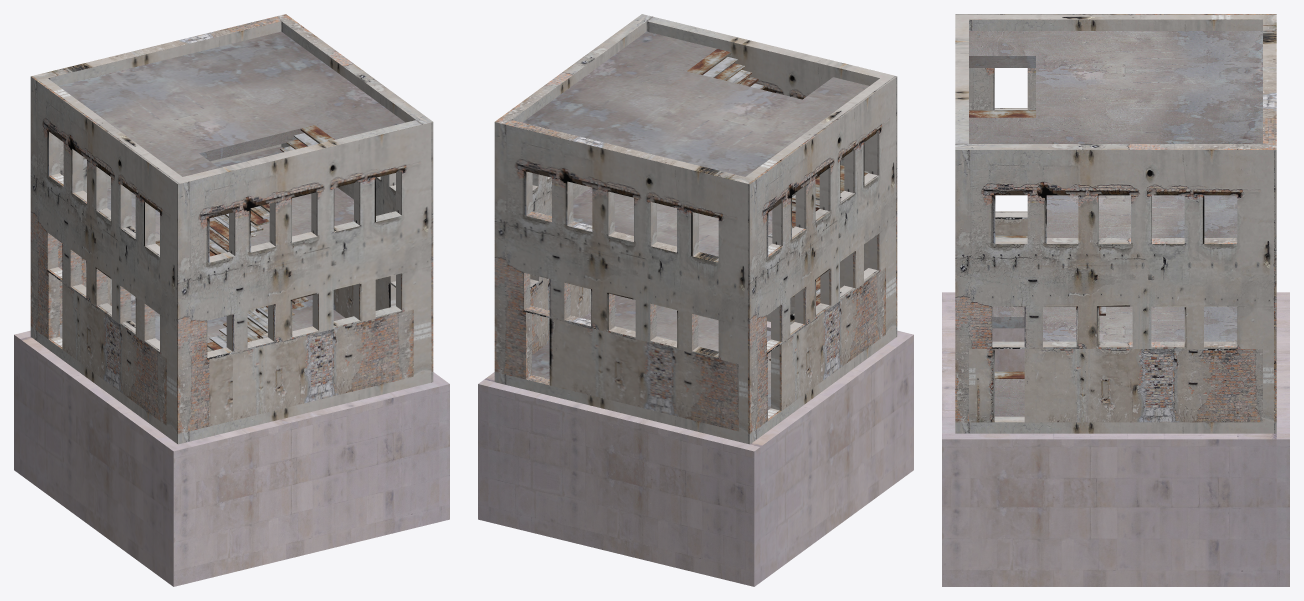
File: BagBuilding23High.fbx
3 views of the same model, side by side, from view 1: azimuth 30°, elevation 25°; view 2: azimuth 150°, elevation 25°; view 3: azimuth 270°, elevation 25° (orthographic). The views are drawn at different scales.
Parts seen in each view (by area): view 1: walls300, basement300, floors300, stairs300; view 2: walls300, basement300, floors300, stairs300; view 3: walls300, basement300, floors300, stairs300.
Boxes of the visible parts, x1,y1,x2,y2 form: walls300: (30, 14, 433, 444); basement300: (14, 330, 449, 586); floors300: (59, 31, 405, 350); stairs300: (155, 125, 334, 351); walls300: (494, 14, 897, 444); basement300: (478, 321, 913, 586); floors300: (522, 31, 868, 409); stairs300: (687, 49, 868, 360); walls300: (955, 14, 1276, 433); basement300: (942, 292, 1289, 586); floors300: (969, 31, 1262, 416); stairs300: (969, 110, 1105, 378).
Bounding box in the file's own units: 19.21 × 26.28 × 19.21.
